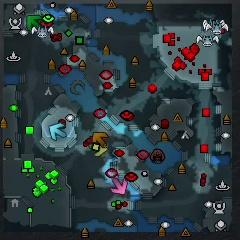x1: (111, 178, 127, 194)
x2: (89, 144, 108, 157)
x3: (49, 123, 66, 140)
x4: (26, 15, 41, 30)
x5: (92, 132, 108, 147)
